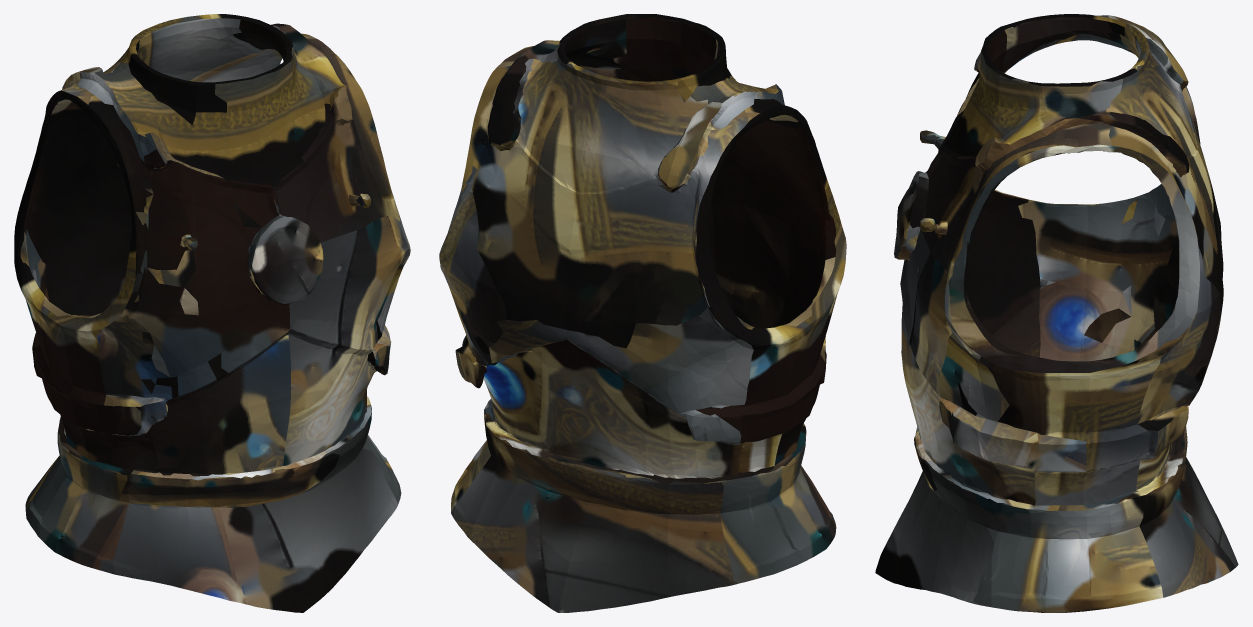
The model's file is BasicChestplate.obj.
3 views of the same model, side by side, from view 1: azimuth 30°, elevation 25°; view 2: azimuth 150°, elevation 25°; view 3: azimuth 270°, elevation 25° (orthographic). The views are drawn at different scales.
Visible parts, largest first — view 1: geometry_0; view 2: geometry_0; view 3: geometry_0.
Boxes of the visible parts, box(x1,y1,x2,y2) form: geometry_0: box(14, 14, 410, 612); geometry_0: box(439, 14, 846, 612); geometry_0: box(875, 14, 1238, 612).
Size of the model in its own units: 0.3609 by 0.5109 by 0.3206.
